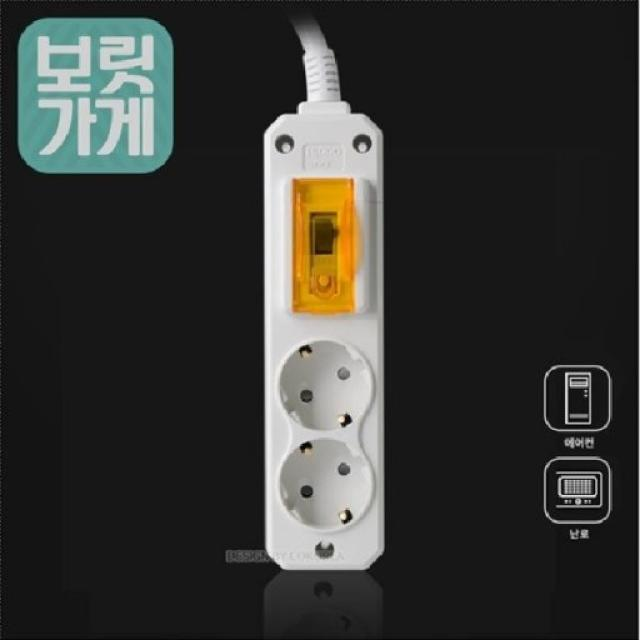typeb: (245, 82, 434, 594)
